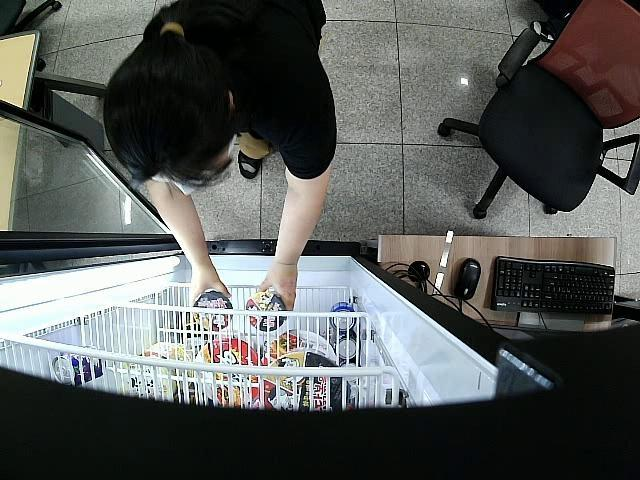08_buldak_S: (246, 292, 285, 332), (194, 290, 232, 330)
